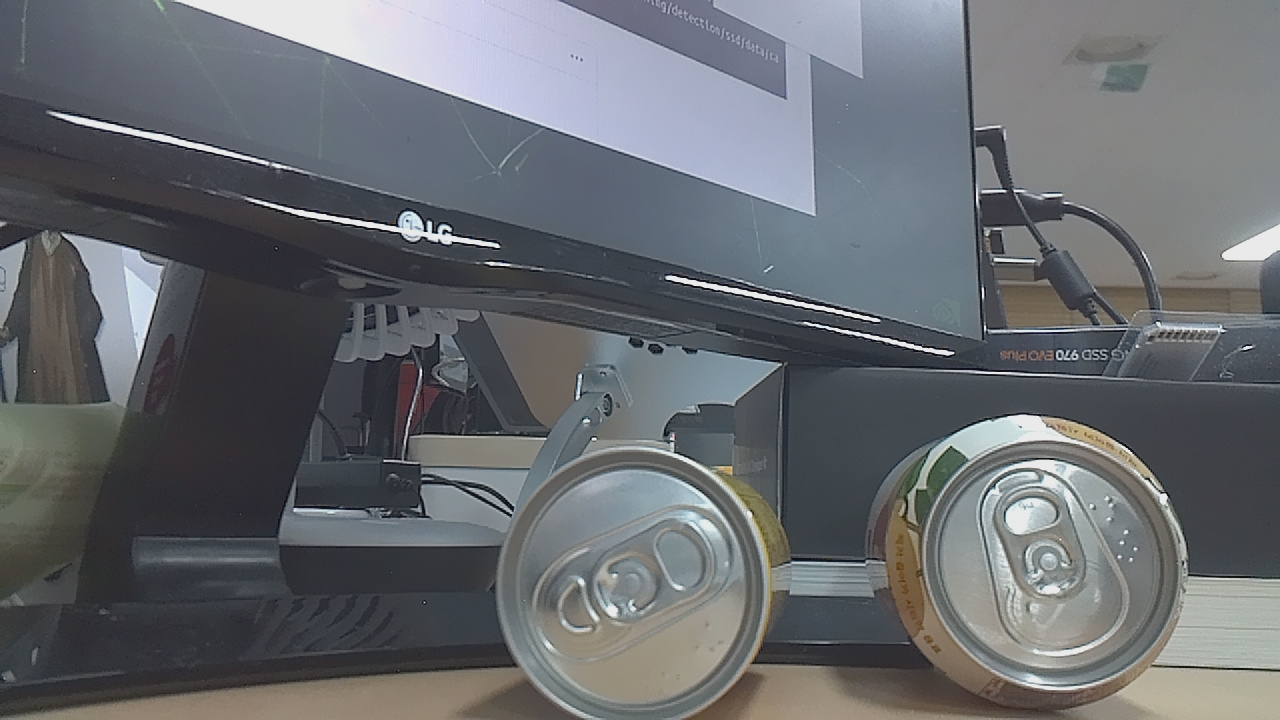IdH (pear juice): (862, 406, 1204, 718)
jetty: (466, 441, 831, 720)
